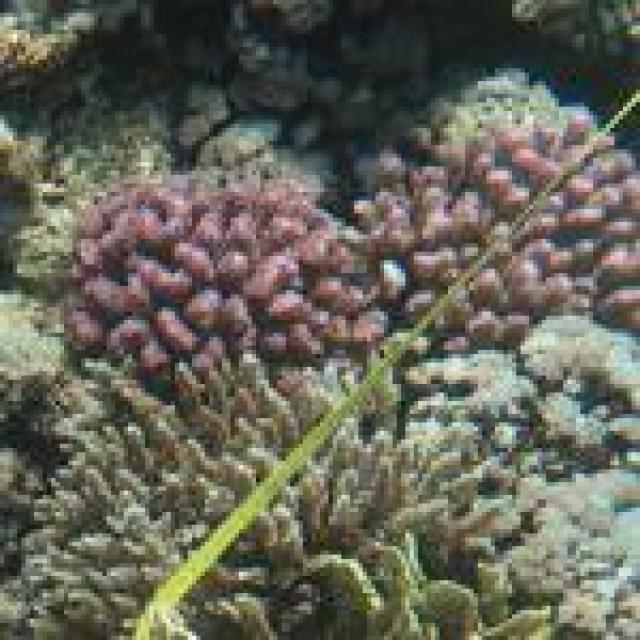Healthy Coral: (6, 369, 526, 640), (64, 107, 640, 350)
